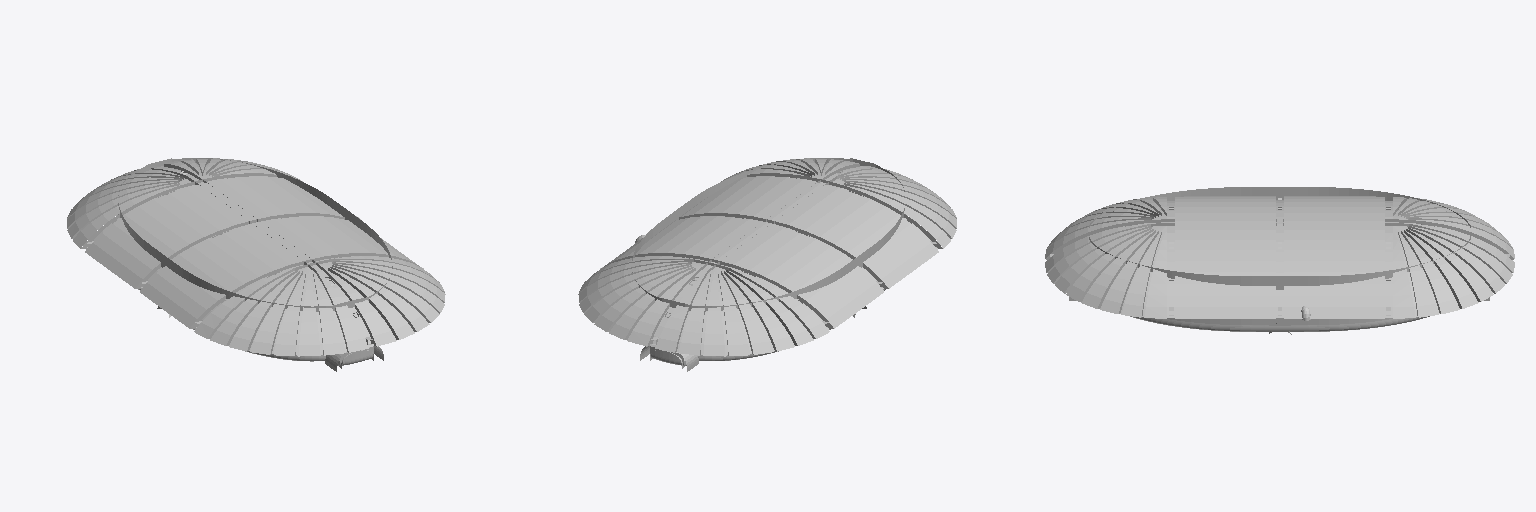
File: soccer_c.obj
The picture shows the model from 3 angles: view 1: azimuth 30°, elevation 25°; view 2: azimuth 150°, elevation 25°; view 3: azimuth 270°, elevation 25°; orthographic projection.
Size of the model in its own units: 189 by 52.21 by 323.